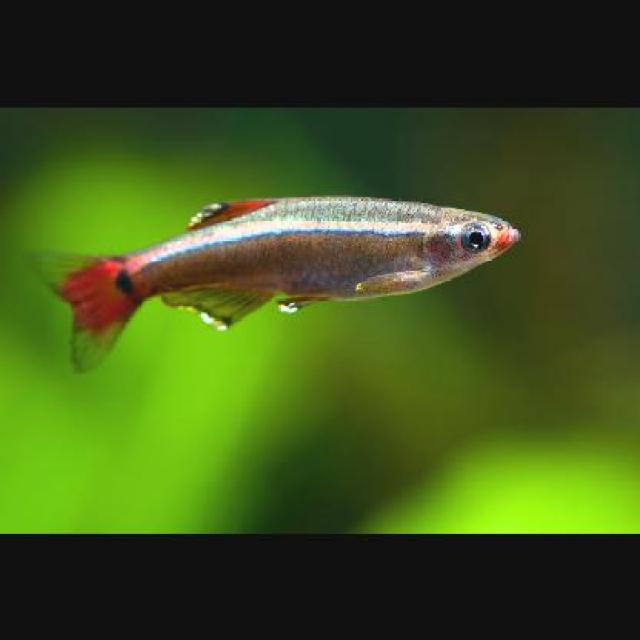ZebraFish: (21, 188, 524, 366)
